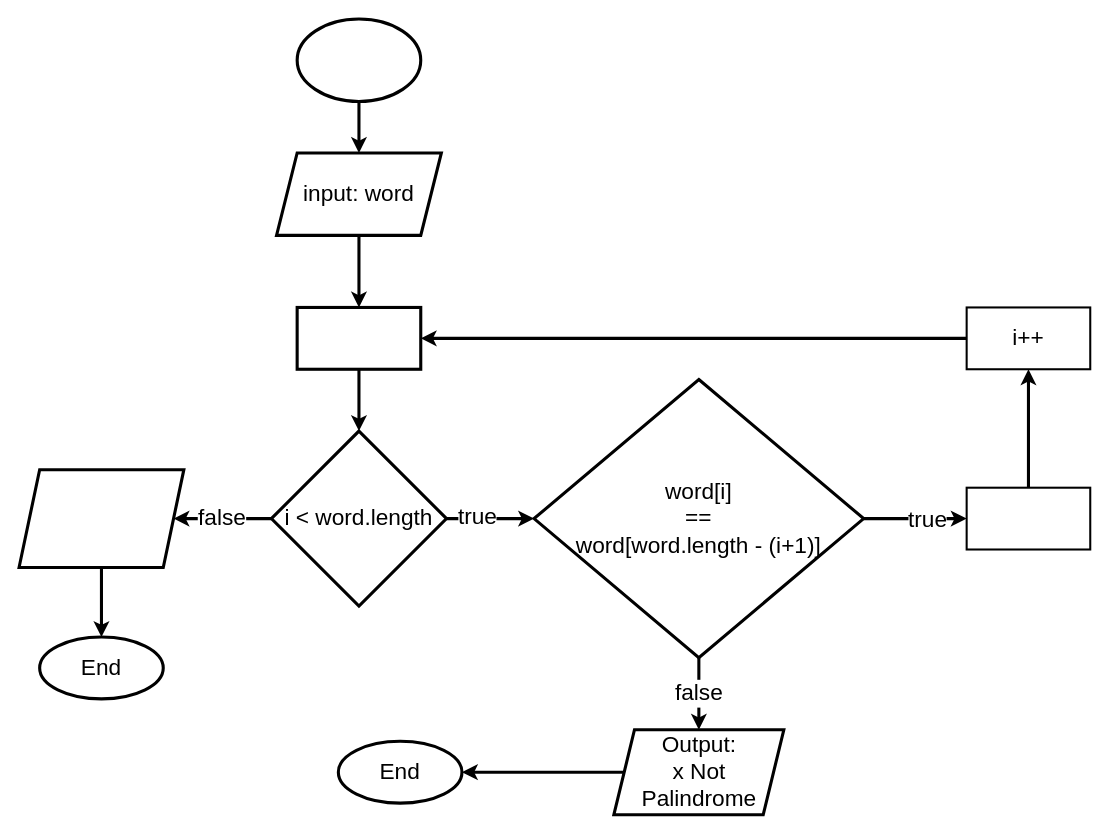
The diagram is 1109 pixels wide and 834 high, and some of its shapes have lost their labels. The shapes that lost their labels are listed below. From the top down, each one's centre as x and y in pixels, then its label:
At (x=358, y=59): "Start".
At (x=358, y=337): "i = 0".
At (x=101, y=518): "Output: x is palindrome".
At (x=1028, y=518): "x += word[i]".
